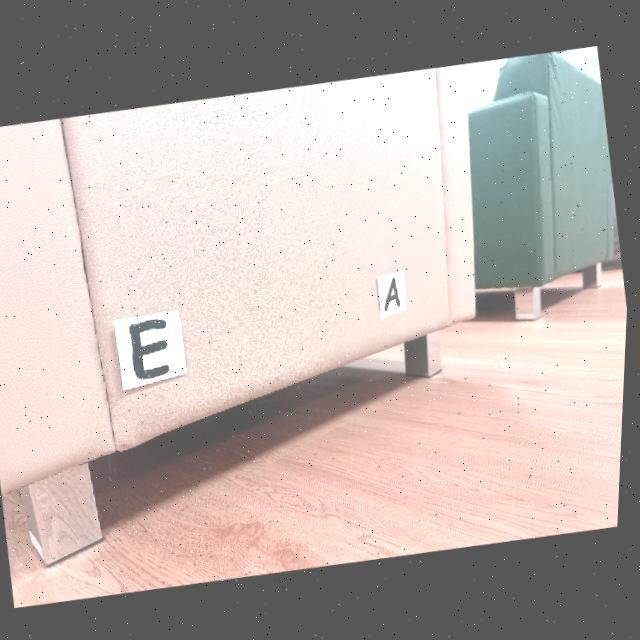A: (388, 276, 404, 309)
E: (132, 318, 173, 379)
